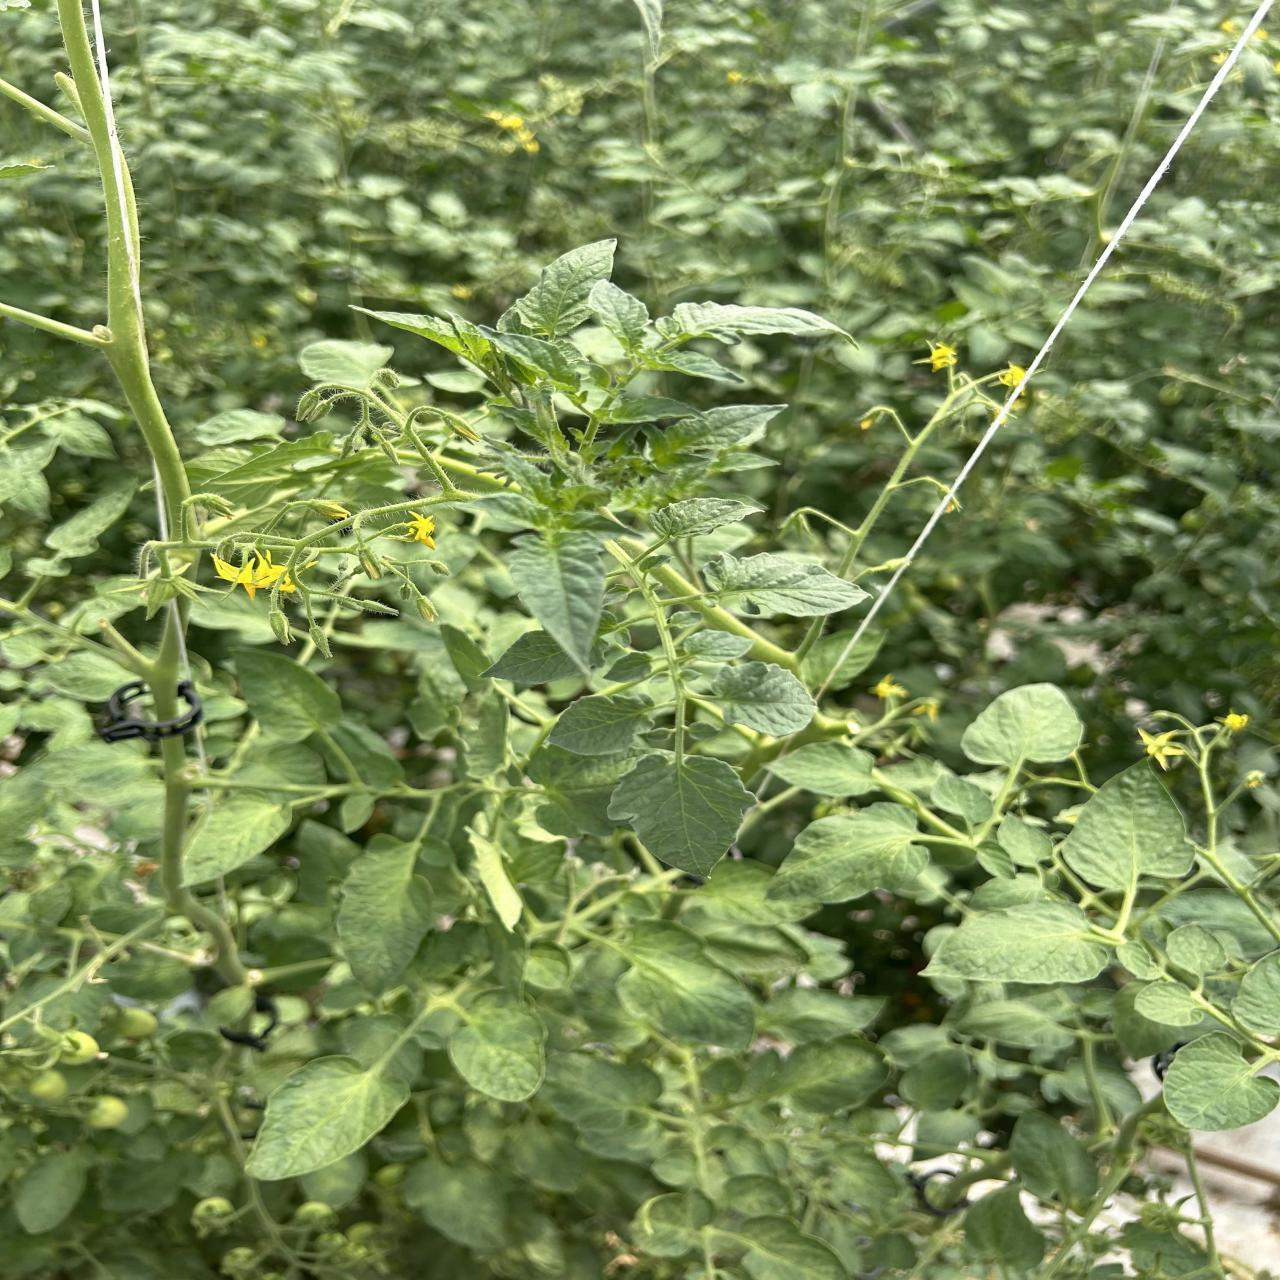Flor: (211, 550, 295, 600), (1138, 729, 1187, 770), (406, 514, 435, 550)
Hoja: (246, 1051, 410, 1180), (1060, 760, 1194, 902), (607, 751, 754, 876), (615, 920, 756, 1049), (767, 803, 938, 907), (924, 889, 1110, 984), (335, 836, 432, 993), (509, 530, 612, 673), (1164, 1032, 1280, 1131), (448, 990, 547, 1102), (701, 552, 868, 617), (182, 792, 292, 886), (961, 684, 1083, 767), (711, 661, 817, 737), (547, 696, 653, 756), (766, 742, 878, 798), (1231, 951, 1280, 1037), (1166, 923, 1228, 979), (1134, 979, 1205, 1027), (1116, 939, 1164, 980)
Hoja rugoso: (498, 239, 617, 339), (649, 497, 762, 540)
Pedunculo: (57, 0, 190, 518)
